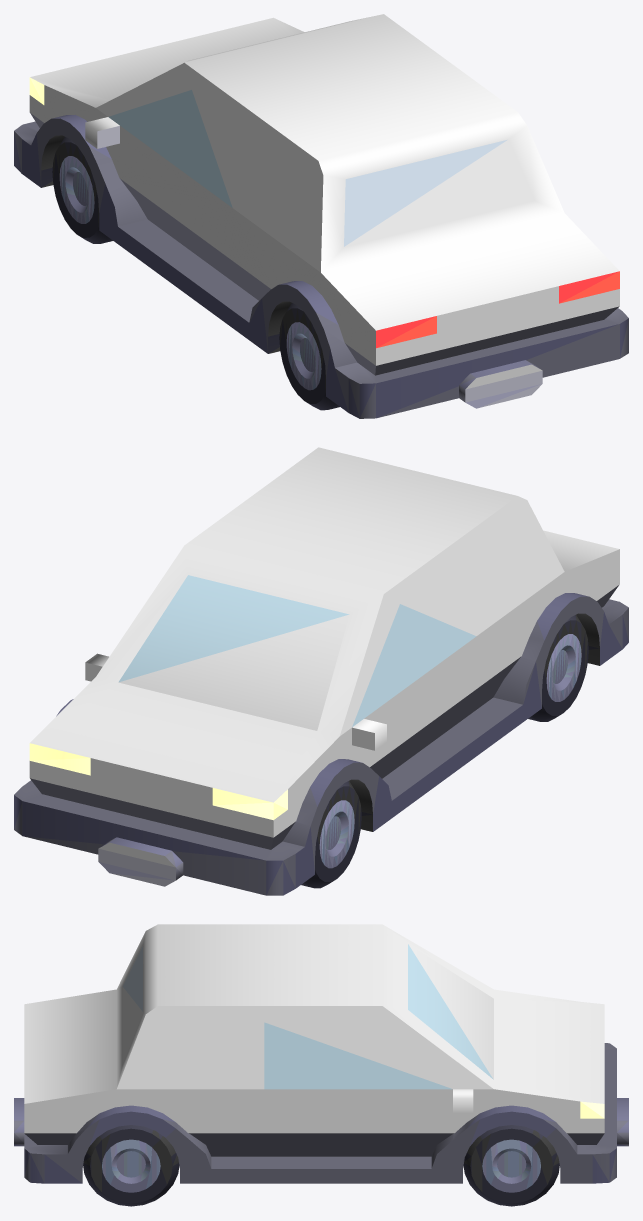
Rendered from sedan.glb.
3 views of the same model, one above another, from view 1: azimuth 30°, elevation 25°; view 2: azimuth 150°, elevation 25°; view 3: azimuth 270°, elevation 25° (orthographic). The views are drawn at different scales.
Parts seen in each view (by area): view 1: body, wheel_FL, wheel_RL; view 2: body, wheel_RL, wheel_FL; view 3: body, wheel_FR, wheel_RR.
Part boxes in pixels (x1,y1,x2,y2): body: [14, 14, 628, 418]; wheel_FL: [52, 137, 112, 243]; wheel_RL: [279, 303, 339, 410]; body: [14, 447, 628, 895]; wheel_RL: [528, 615, 588, 721]; wheel_FL: [301, 781, 361, 888]; body: [14, 924, 628, 1183]; wheel_FR: [463, 1125, 559, 1206]; wheel_RR: [83, 1125, 179, 1206].
Size of the model in its own units: 1.96 by 1.48 by 4.3.
